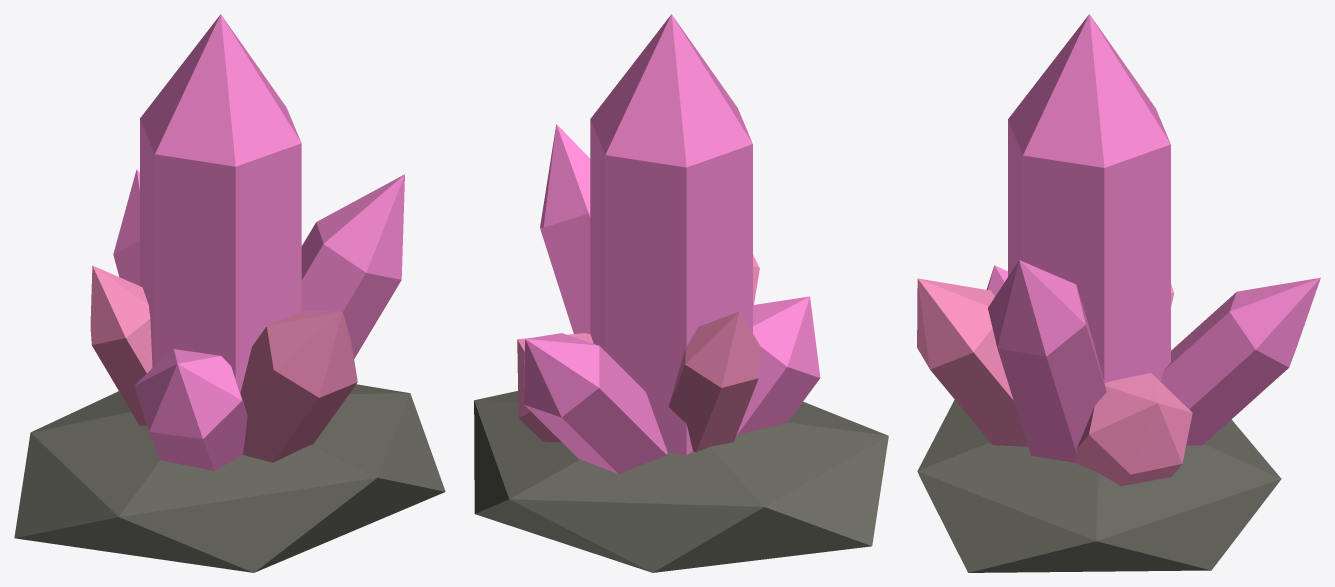
Rendered from PinkCrystals.fbx.
The picture shows the model from 3 angles, left to right: view 1: azimuth 30°, elevation 25°; view 2: azimuth 150°, elevation 25°; view 3: azimuth 270°, elevation 25°; orthographic projection.
Parts seen in each view (by area): view 1: PinkCrystals; view 2: PinkCrystals; view 3: PinkCrystals.
Boxes of the visible parts, x1,y1,x2,y2 form: PinkCrystals: (14, 14, 445, 572); PinkCrystals: (474, 14, 888, 572); PinkCrystals: (917, 14, 1320, 572).
Size of the model in its own units: 2.66 by 3.32 by 2.33.
Materials: 1 (1 with a texture image).
